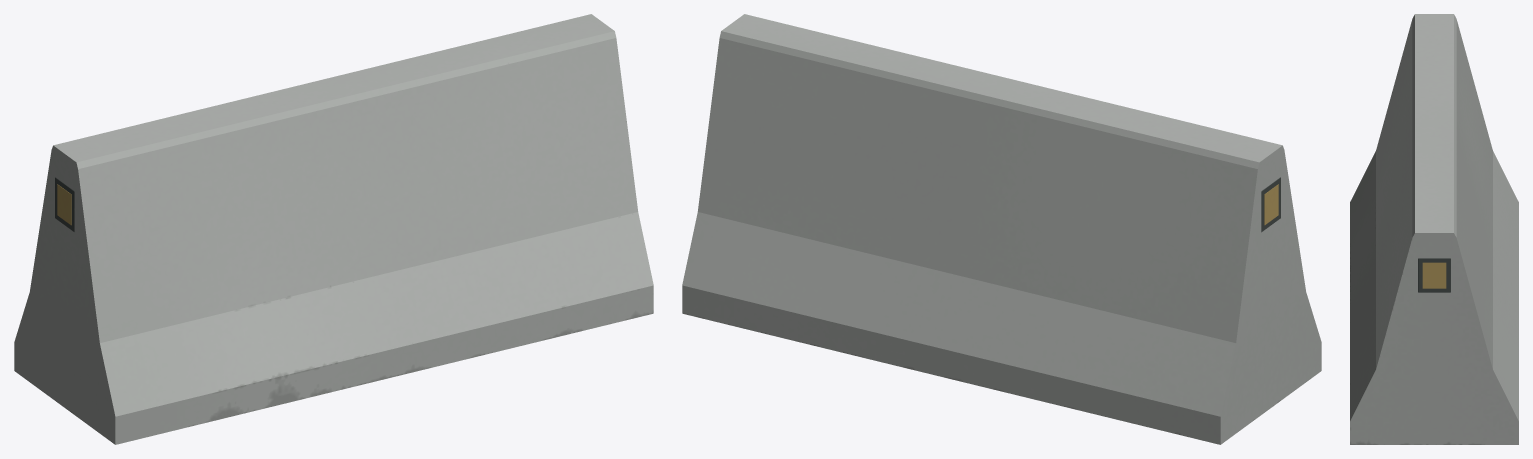
Rendered from jersey_barrier_intact.glb.
3 views of the same model, side by side, from view 1: azimuth 30°, elevation 25°; view 2: azimuth 150°, elevation 25°; view 3: azimuth 270°, elevation 25° (orthographic). The views are drawn at different scales.
Parts seen in each view (by area): view 1: JerseyBarrierIntact; view 2: JerseyBarrierIntact; view 3: JerseyBarrierIntact.
Part boxes in pixels (<box>): JerseyBarrierIntact: <box>14,14,653,444</box>; JerseyBarrierIntact: <box>682,14,1321,444</box>; JerseyBarrierIntact: <box>1350,14,1518,444</box>.
Size of what is drawn, in the model's own units: 2 by 0.9 by 0.65.
Materials: 1 (1 with a texture image).
